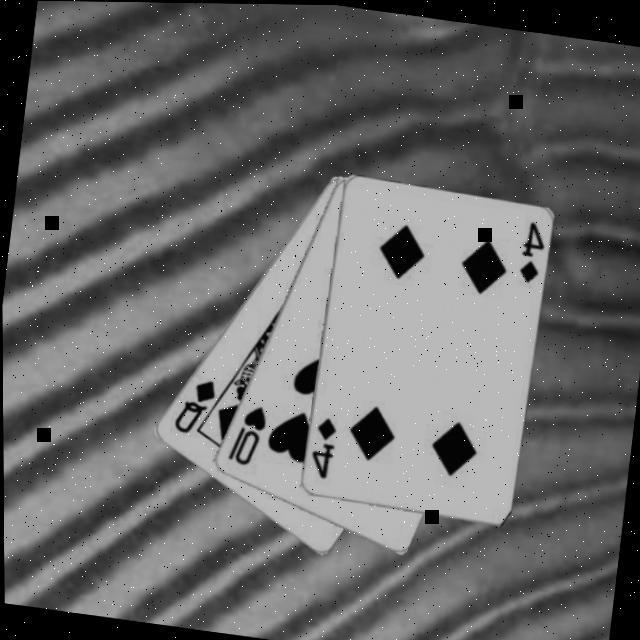10H: (220, 401, 268, 472)
4D: (303, 414, 337, 483), (512, 218, 546, 286)
QD: (166, 373, 218, 441)
